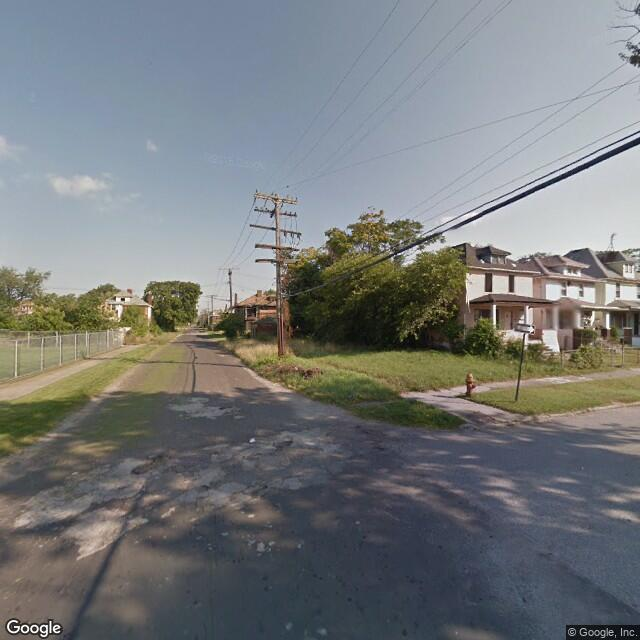litter: (248, 431, 255, 443)
